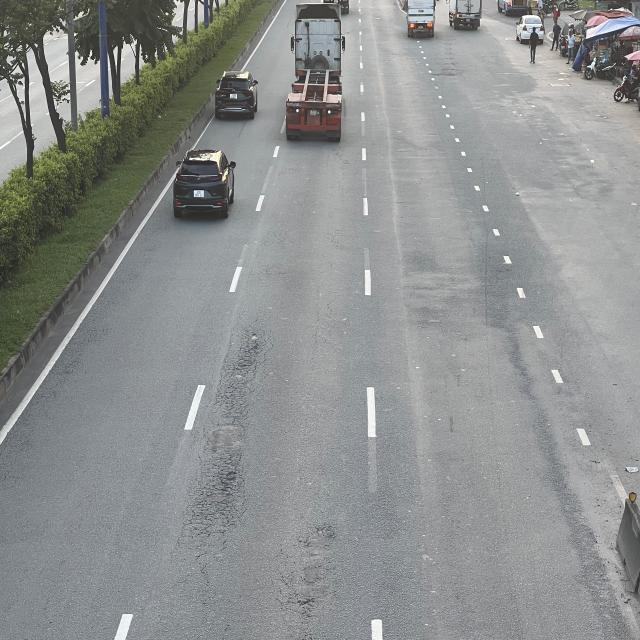car: (171, 146, 239, 215), (212, 68, 258, 120), (515, 13, 544, 42)
container: (286, 4, 346, 144)
truck: (407, 0, 435, 42), (448, 0, 485, 28)
